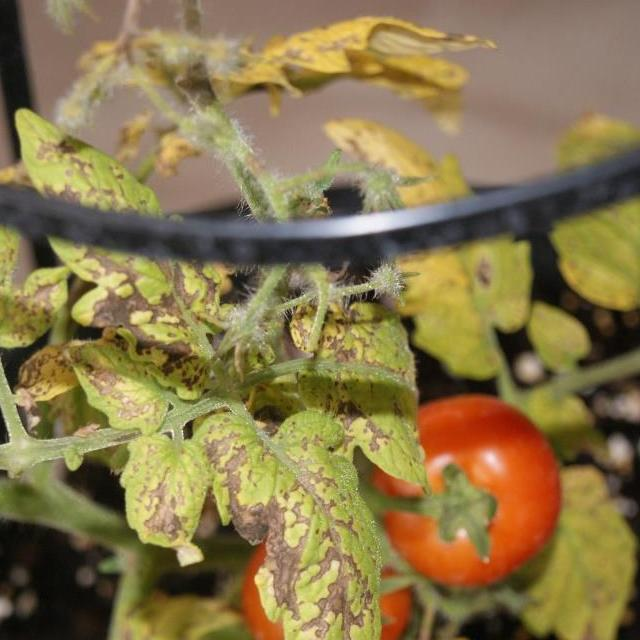Tomato leaf bacterial spot: (0, 93, 218, 361), (187, 386, 390, 640), (298, 293, 427, 487), (0, 79, 59, 413), (116, 425, 207, 566)
